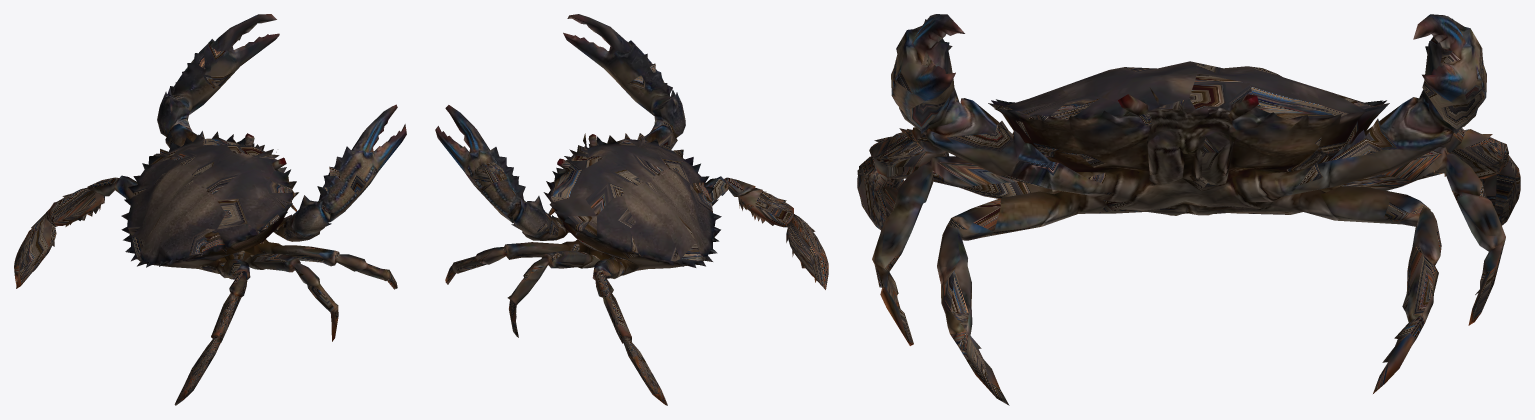
File: zwemkrab.glb
The picture shows the model from 3 angles, left to right: view 1: azimuth 30°, elevation 25°; view 2: azimuth 150°, elevation 25°; view 3: azimuth 270°, elevation 25°; orthographic projection. The views are drawn at different scales.
Visible parts, largest first — view 1: tripo_node_88ae8a7b-d4c4-482b-beea-9c48f99c21ba; view 2: tripo_node_88ae8a7b-d4c4-482b-beea-9c48f99c21ba; view 3: tripo_node_88ae8a7b-d4c4-482b-beea-9c48f99c21ba.
Part boxes in pixels (x1,y1,x2,y2): tripo_node_88ae8a7b-d4c4-482b-beea-9c48f99c21ba: (14,14,406,405); tripo_node_88ae8a7b-d4c4-482b-beea-9c48f99c21ba: (435,14,828,405); tripo_node_88ae8a7b-d4c4-482b-beea-9c48f99c21ba: (857,14,1520,405).
Size of the model in its own units: 0.3405 by 0.2997 by 0.4185.
1 material, 1 textured.
